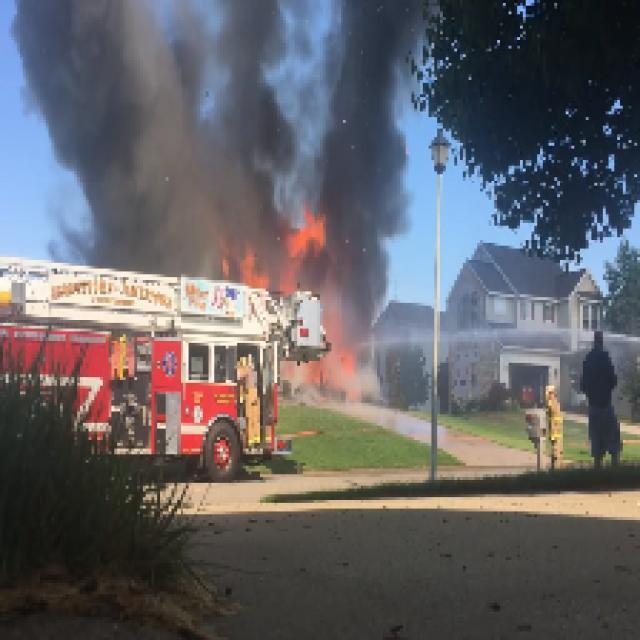Fire: (286, 214, 326, 269)
Smoke: (12, 2, 288, 232), (297, 2, 432, 208), (337, 206, 414, 303)
